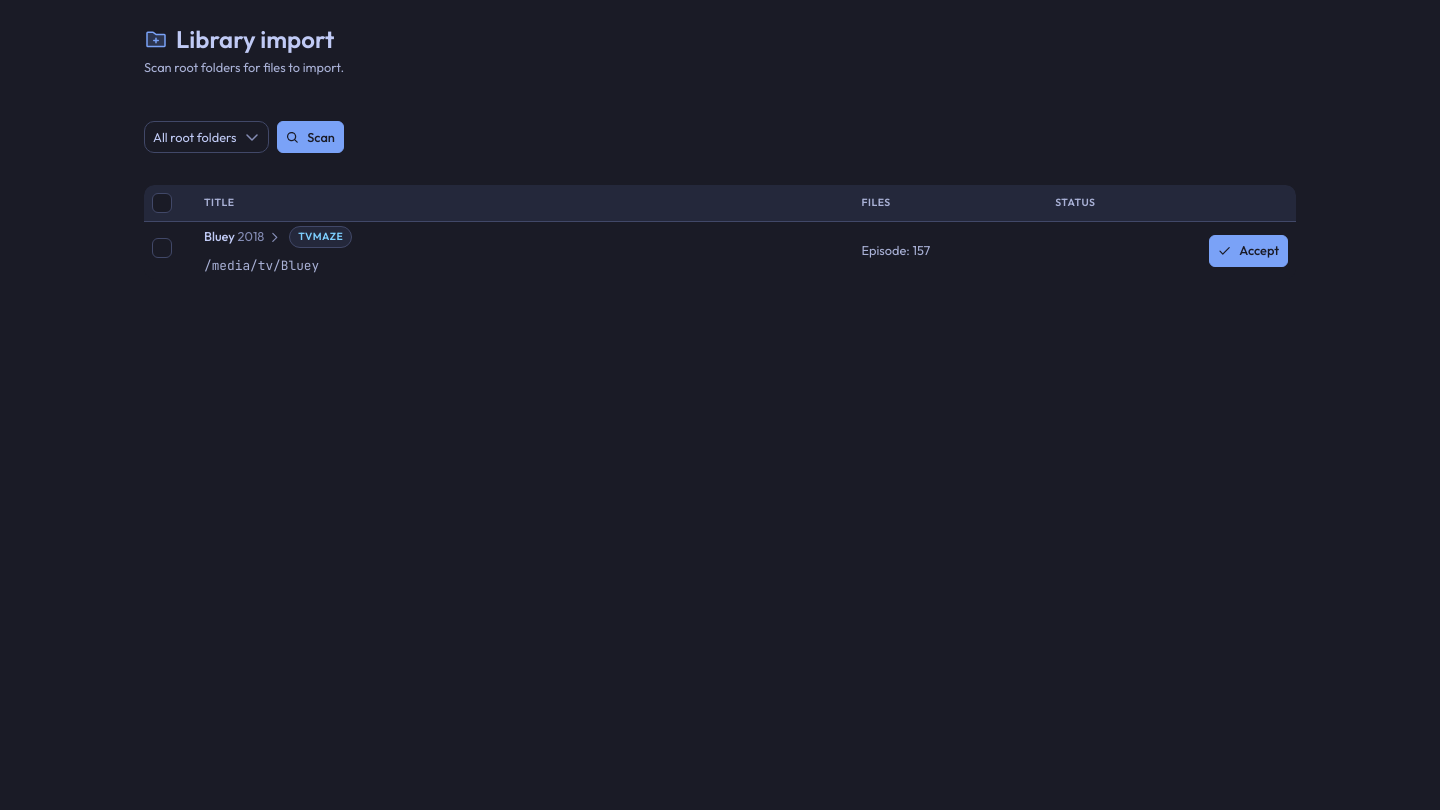
Test case: LibraryImportPage › shows a gone-group toast when accepting a group 404s (the group no longer exists)
Expected: the row "Bluey 2018 tvmaze /media/tv/Bluey Episode: 157 Accept" is shown, [144,222,1296,279]
Click the button "Accept".
click(1249, 251)  # box [1210,235,1288,267]
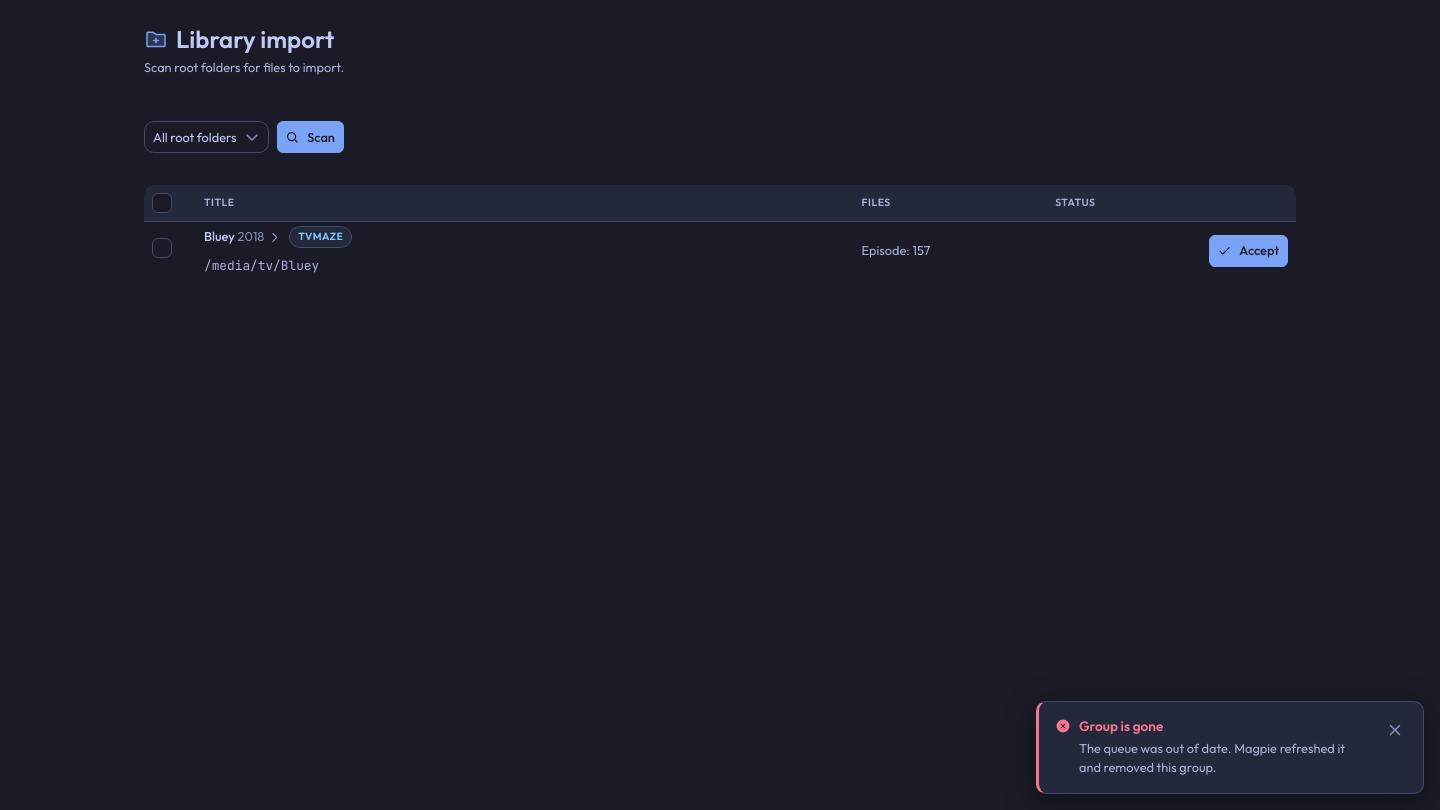
Expected: the text "Group is gone" is shown, [1079,717,1163,735]
